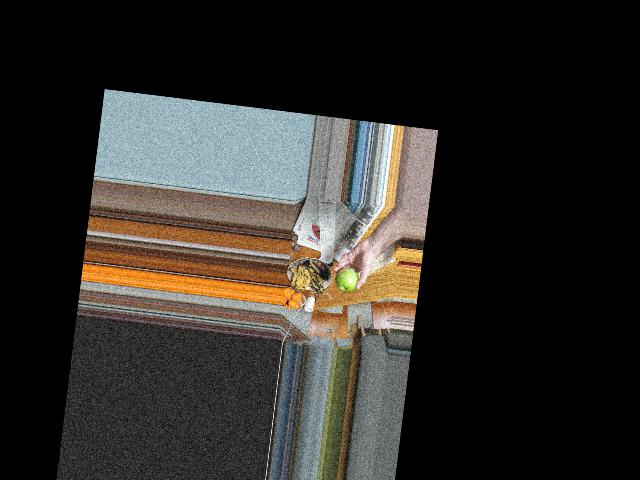apple: (336, 267, 360, 292)
